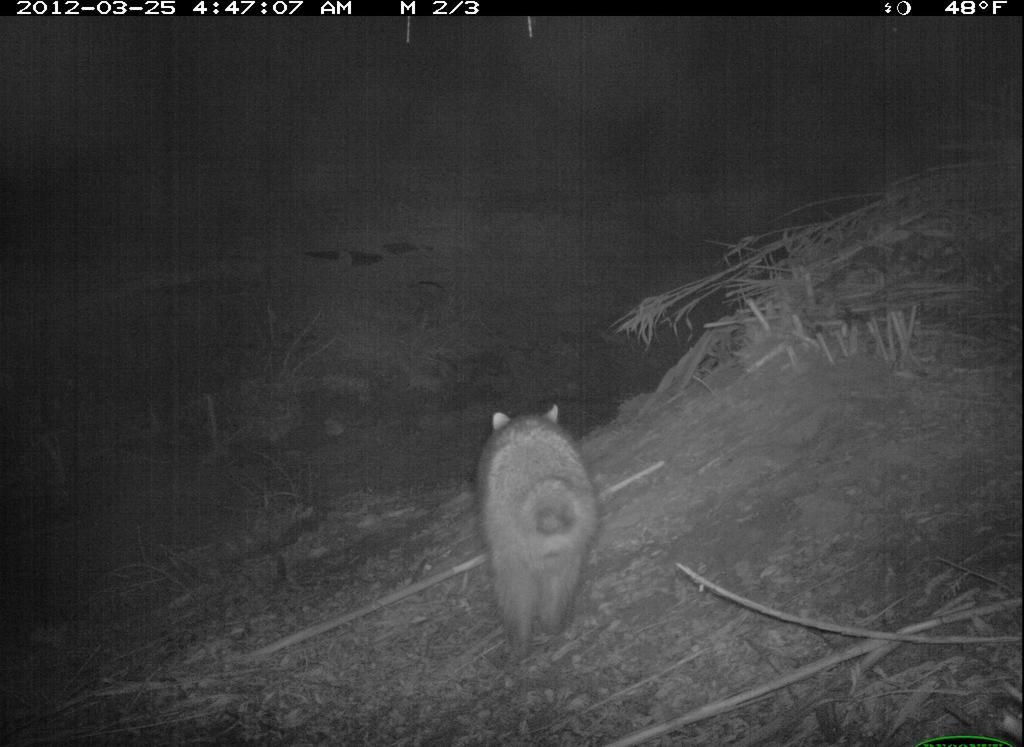raccoon: (470, 396, 611, 673)
